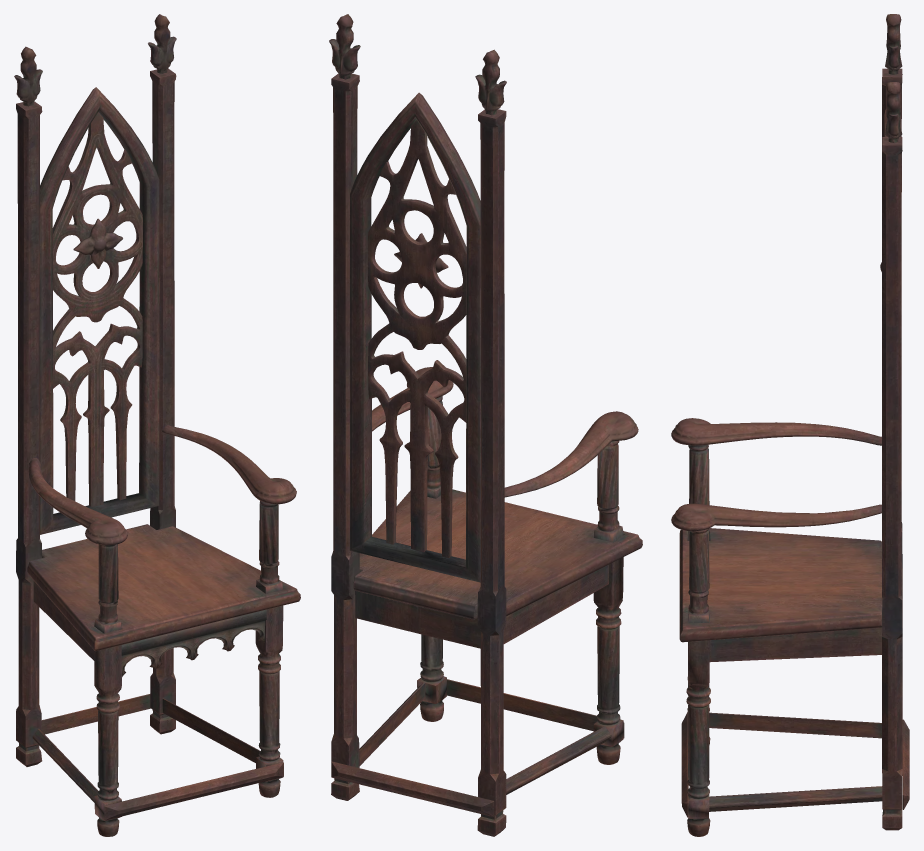
File: WoodenChair_01.glb
3 views of the same model, side by side, from view 1: azimuth 30°, elevation 25°; view 2: azimuth 150°, elevation 25°; view 3: azimuth 270°, elevation 25° (orthographic). The views are drawn at different scales.
Visible parts, largest first — view 1: WoodenChair_01; view 2: WoodenChair_01; view 3: WoodenChair_01.
Boxes of the visible parts, <box> form: WoodenChair_01: <box>14,14,300,836</box>; WoodenChair_01: <box>329,14,642,836</box>; WoodenChair_01: <box>671,14,909,836</box>.
Size of the model in its own units: 0.6881 by 2.27 by 0.6584.
Materials: 1 (1 with a texture image).
